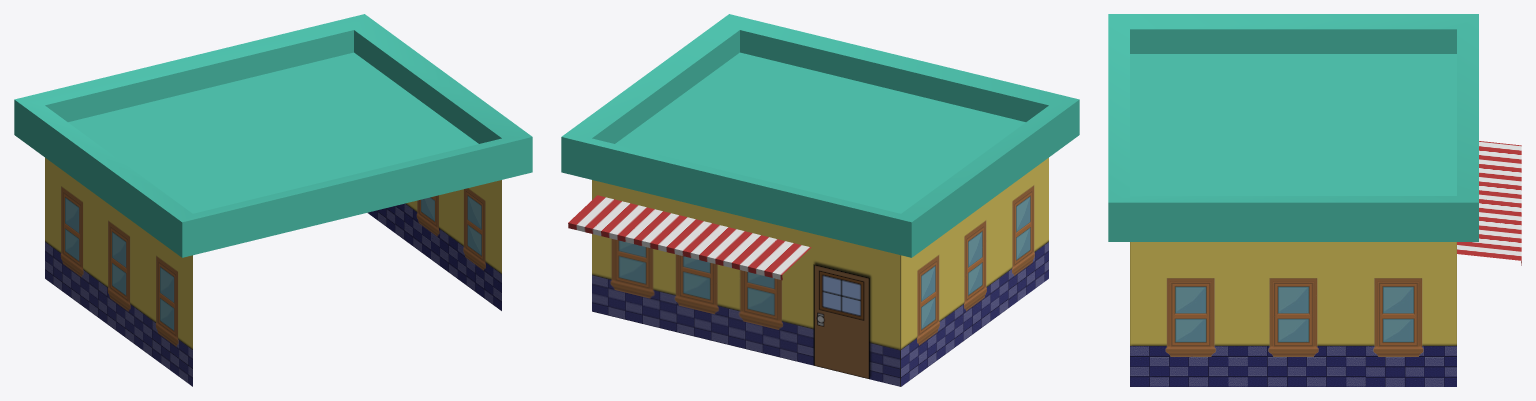
The model's file is Building 5.fbx.
3 renders of one model, left to right at view 1: azimuth 30°, elevation 25°; view 2: azimuth 150°, elevation 25°; view 3: azimuth 270°, elevation 25°, orthographic. The views are drawn at different scales.
Parts seen in each view (by area): view 1: BuildingCombined1; view 2: BuildingCombined1; view 3: BuildingCombined1.
Part boxes in pixels (<box>): BuildingCombined1: <box>14,14,532,386</box>; BuildingCombined1: <box>561,14,1079,386</box>; BuildingCombined1: <box>1108,14,1521,386</box>.
Size of the model in its own units: 1155 by 557 by 1069.
Materials: 3 (3 with a texture image).
